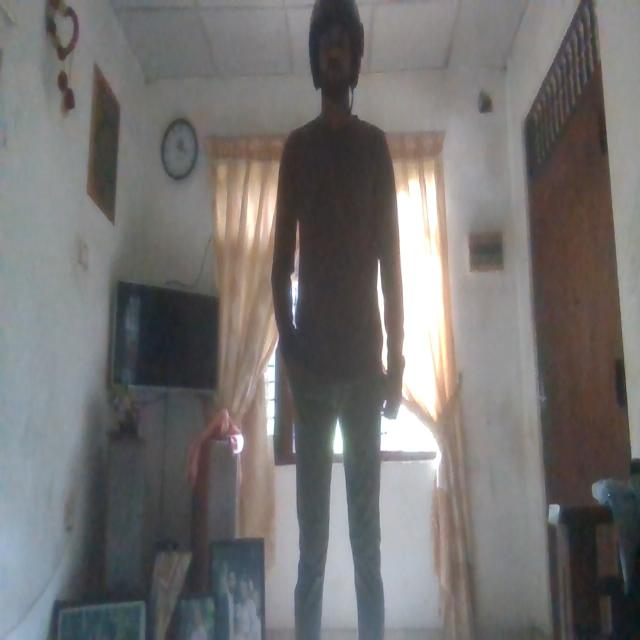Helmet_Wearer: (302, 0, 368, 111)
Person: (275, 0, 407, 640)
